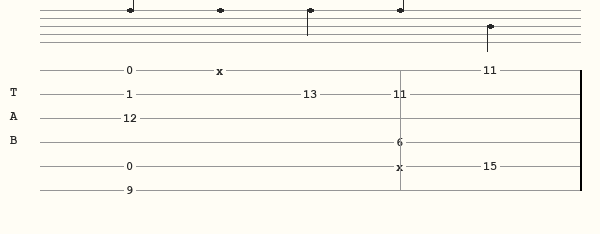0: (126, 64, 137, 76), (126, 160, 137, 172)
1: (126, 88, 137, 100)
11: (393, 88, 411, 100), (483, 64, 501, 76)
12: (123, 112, 141, 124)
13: (303, 88, 321, 100)
15: (483, 160, 501, 172)
6: (396, 136, 407, 148)
9: (126, 184, 137, 196)
x: (216, 65, 227, 75), (396, 161, 407, 171)
